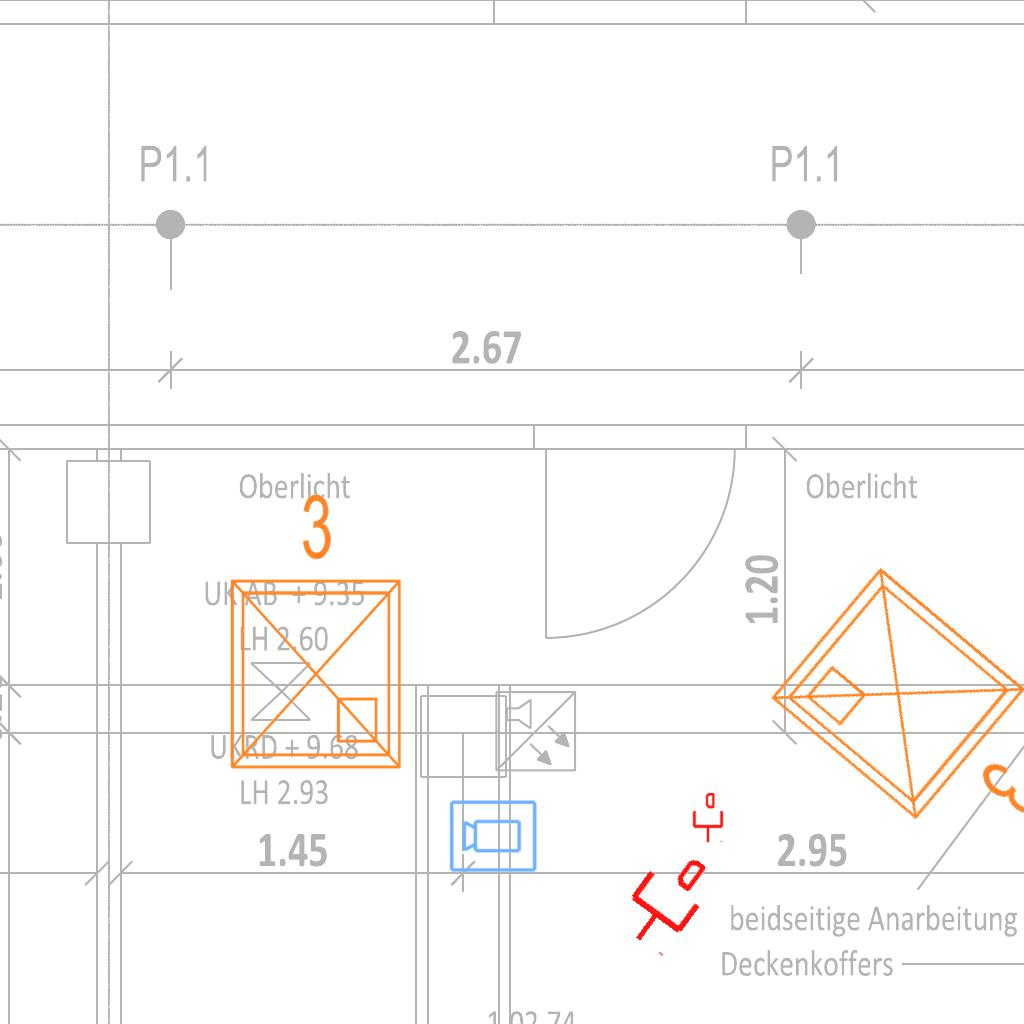Datenanschluss_einfach: (609, 839, 724, 961), (691, 793, 725, 843)
Einbaudownlights_LED_Konferenzraeume: (750, 540, 1024, 894), (208, 483, 416, 783)
KFO_Kamera_mit_Festobjektiv: (448, 797, 539, 874)
